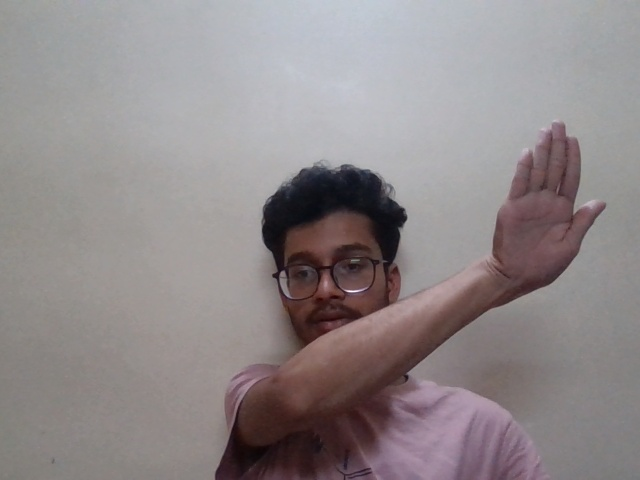hello: (483, 114, 625, 313)
